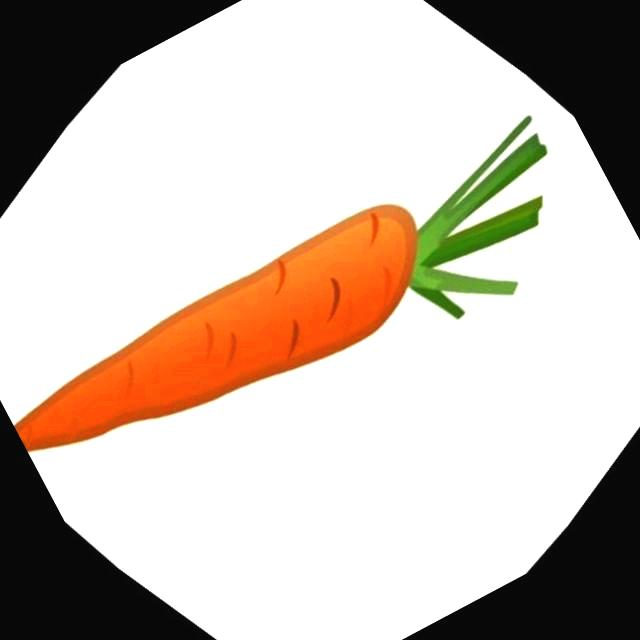carrot: (0, 3, 591, 640)
